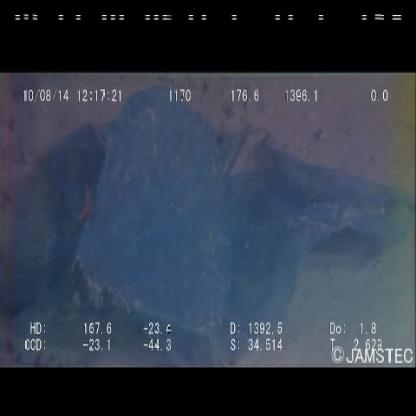Rác: (18, 80, 408, 376)
